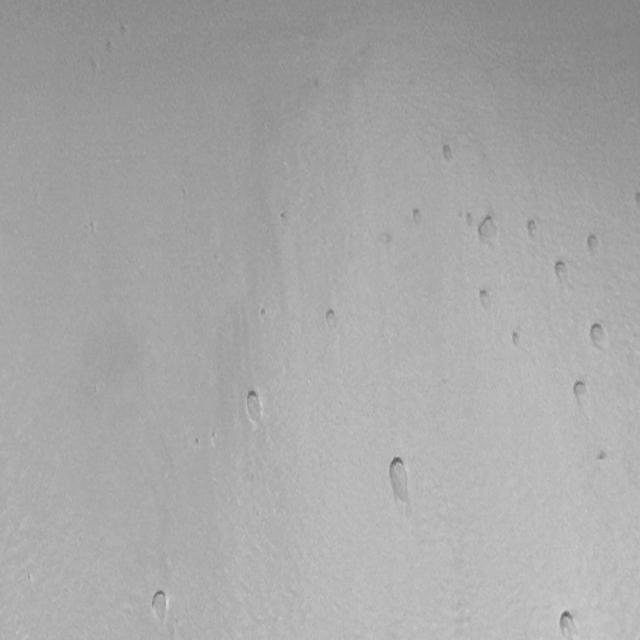pin holes: (384, 452, 415, 512), (240, 387, 266, 427), (475, 211, 502, 248), (555, 607, 583, 640), (147, 588, 171, 625), (587, 320, 611, 352), (568, 380, 591, 411), (584, 232, 604, 260), (552, 258, 572, 285), (438, 142, 458, 168), (476, 286, 494, 312), (523, 218, 541, 243), (322, 307, 341, 330), (462, 209, 478, 232), (410, 207, 425, 227), (276, 210, 292, 228), (381, 230, 395, 250), (510, 329, 523, 350), (594, 448, 611, 463), (258, 304, 272, 322), (102, 39, 115, 57), (120, 21, 132, 40), (210, 431, 220, 447), (194, 436, 204, 451)
